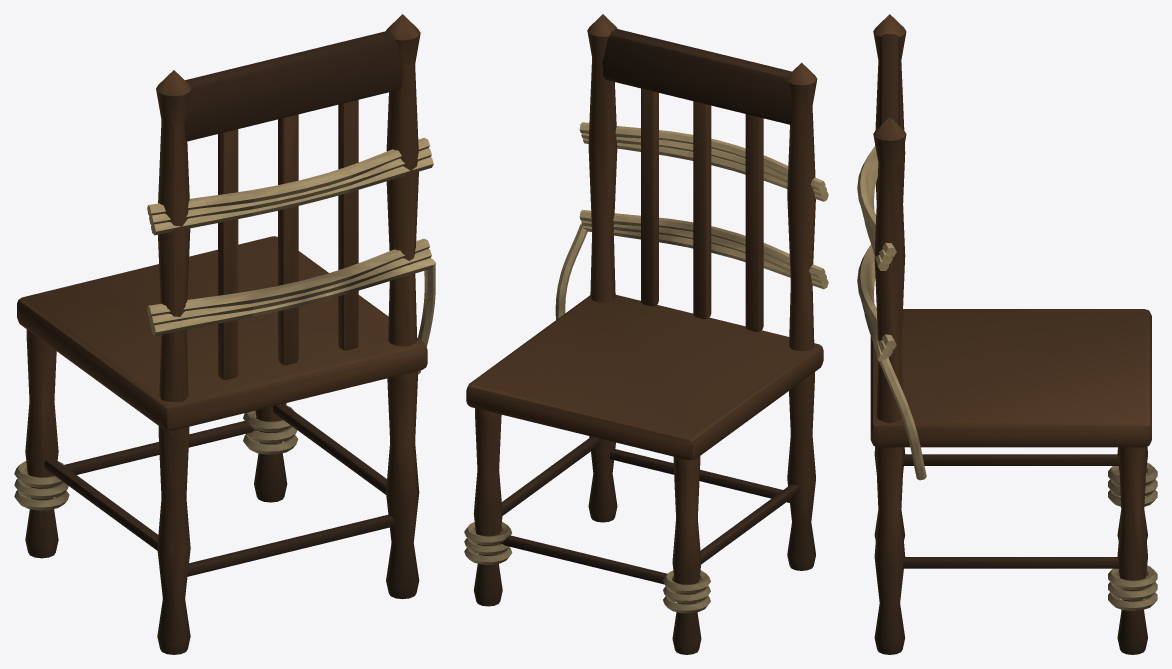
File: ChairRopes.glb
3 renders of one model, left to right at view 1: azimuth 30°, elevation 25°; view 2: azimuth 150°, elevation 25°; view 3: azimuth 270°, elevation 25°, orthographic. The views are drawn at different scales.
Parts seen in each view (by area): view 1: ChairRopes_wood, ChairRopes_wood_dark, ChairRopes_rope; view 2: ChairRopes_wood, ChairRopes_wood_dark, ChairRopes_rope; view 3: ChairRopes_wood, ChairRopes_rope, ChairRopes_wood_dark.
Part boxes in pixels (left/top/right/bottom): ChairRopes_wood: left=17, top=14, right=427, bottom=654; ChairRopes_wood_dark: left=44, top=31, right=403, bottom=576; ChairRopes_rope: left=14, top=138, right=435, bottom=510; ChairRopes_wood: left=466, top=14, right=823, bottom=654; ChairRopes_wood_dark: left=497, top=29, right=799, bottom=584; ChairRopes_rope: left=464, top=122, right=828, bottom=613; ChairRopes_wood: left=870, top=14, right=1151, bottom=654; ChairRopes_rope: left=857, top=145, right=1157, bottom=610; ChairRopes_wood_dark: left=879, top=34, right=1119, bottom=568.
Size of the model in its own units: 2.45 by 4.6 by 2.35.
